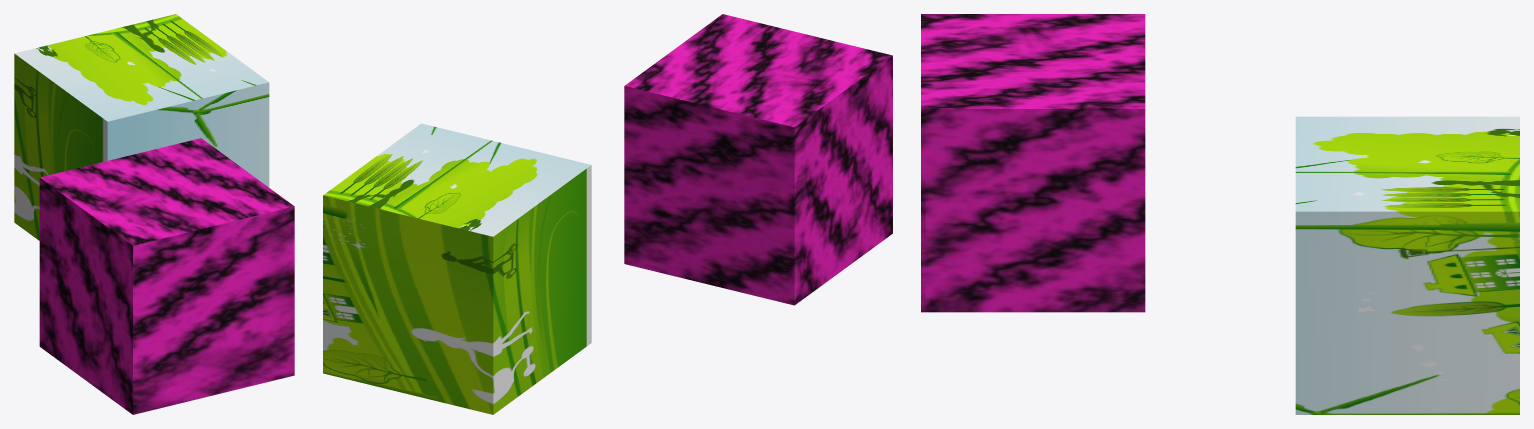
The model's file is rotatingcubes.gltf.
3 renders of one model, left to right at view 1: azimuth 30°, elevation 25°; view 2: azimuth 150°, elevation 25°; view 3: azimuth 270°, elevation 25°, orthographic. The views are drawn at different scales.
Parts seen in each view (by area): view 1: Cube.001, Cube; view 2: Cube, Cube.001; view 3: Cube, Cube.001.
Part boxes in pixels (bbox=[...]): Cube.001: bbox=[39, 138, 294, 414]; Cube: bbox=[14, 14, 269, 240]; Cube: bbox=[323, 123, 591, 414]; Cube.001: bbox=[624, 14, 892, 305]; Cube: bbox=[1295, 116, 1519, 414]; Cube.001: bbox=[921, 14, 1145, 312].
Bounding box in the file's own units: 3.61 × 2.26 × 5.34.
Materials: 2 (2 with a texture image).
